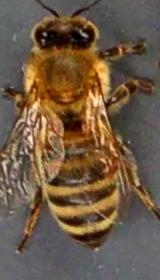varroa_mite: (100, 142, 120, 177)
